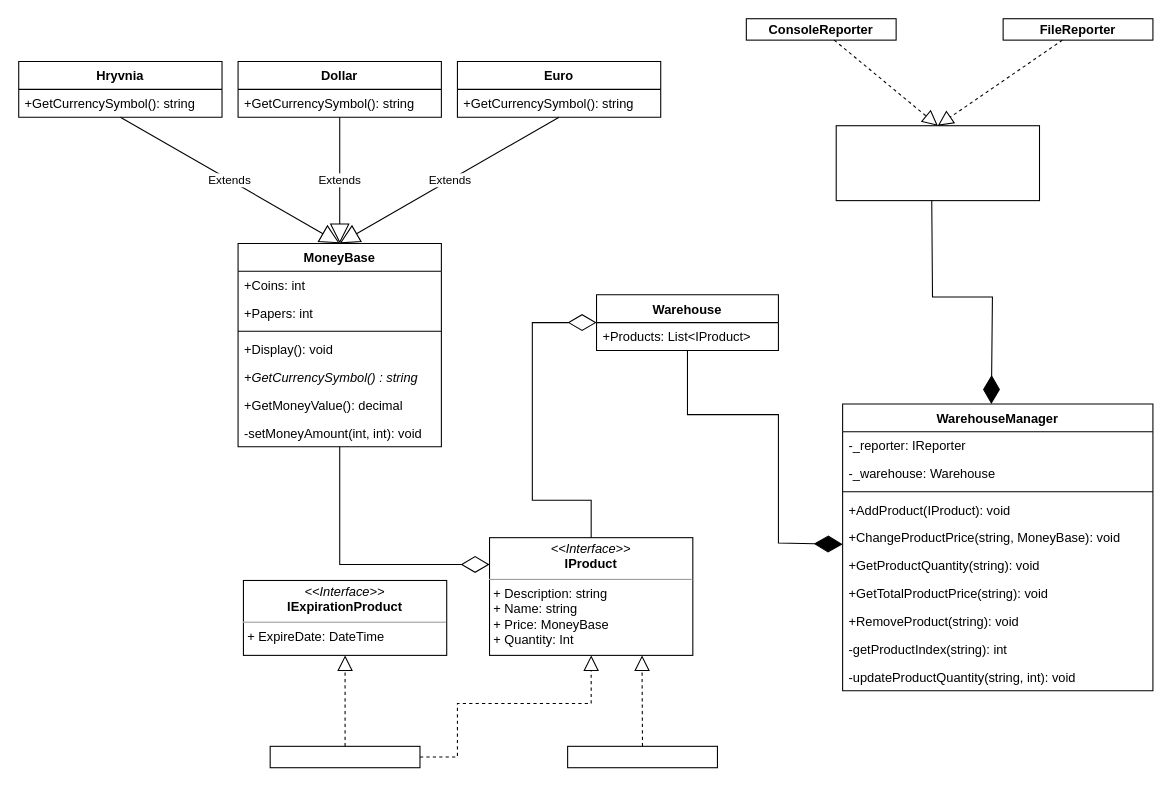
Image size: 1172x791. Some labels were removed from this diagram. Here are the shapes that lost their labels. From the top down, the centre of each, then its label:
At (937,163): "<<Interface>> IReporter + Report(string): Void".
At (344,756): "ExpirationProduct".
At (642,756): "Product".
